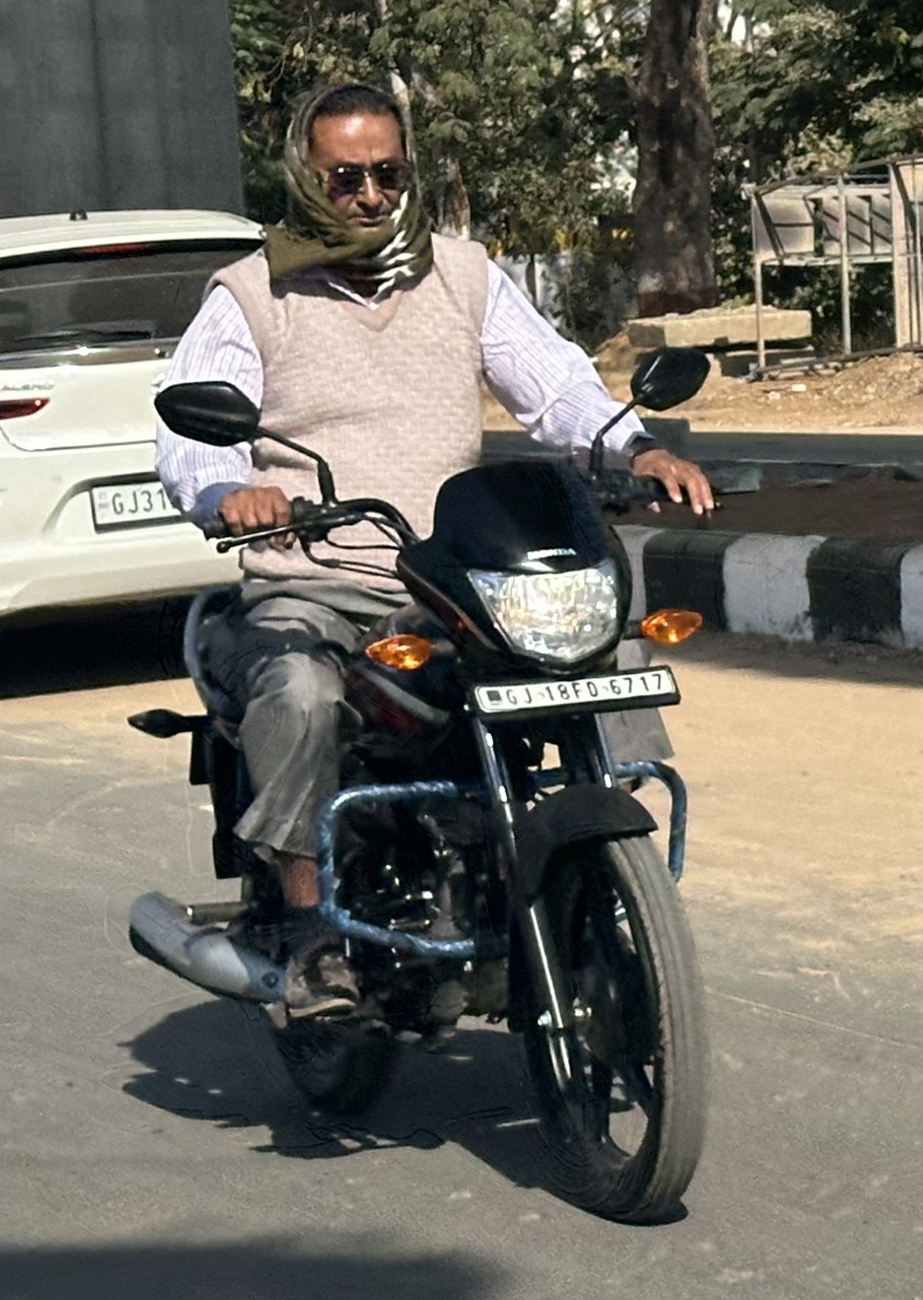BikeWithRider: (108, 66, 742, 1238)
NoHelmet: (260, 70, 446, 276)
